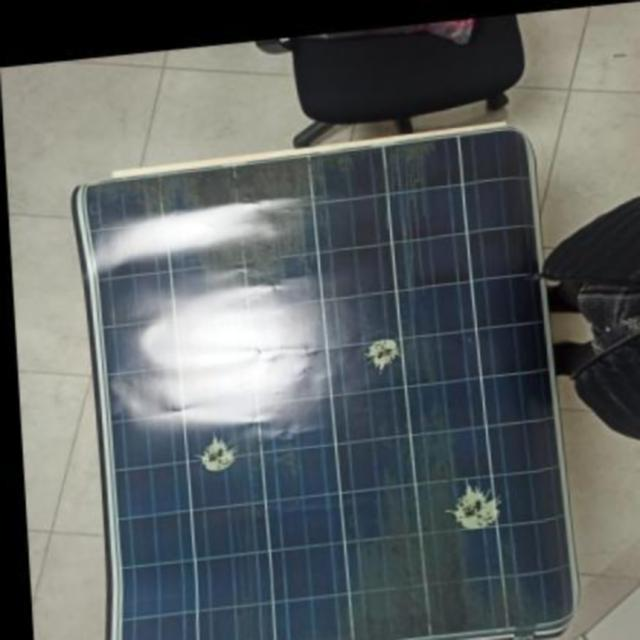soiled: (74, 123, 568, 640)
